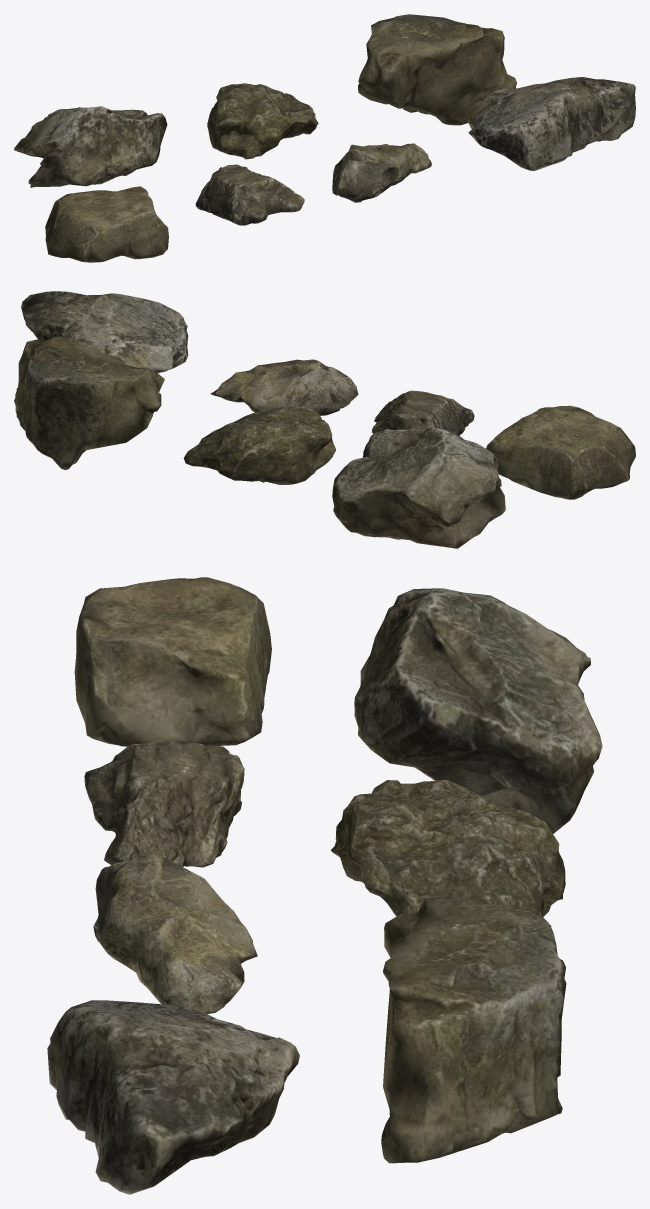
File: rocks_mossy_small_set.glb
3 views of the same model, one above another, from view 1: azimuth 30°, elevation 25°; view 2: azimuth 150°, elevation 25°; view 3: azimuth 270°, elevation 25° (orthographic). The views are drawn at different scales.
Visible parts, largest first — view 1: rock_moss_set_02_rock13, rock_moss_set_02_rock10, rock_moss_set_02_rock11, rock_moss_set_02_rock07, rock_moss_set_02_rock12, rock_moss_set_02_rock08, rock_moss_set_02_rock09; view 2: rock_moss_set_02_rock11, rock_moss_set_02_rock13, rock_moss_set_02_rock07, rock_moss_set_02_rock10, rock_moss_set_02_rock12, rock_moss_set_02_rock09, rock_moss_set_02_rock08; view 3: rock_moss_set_02_rock13, rock_moss_set_02_rock11, rock_moss_set_02_rock10, rock_moss_set_02_rock07, rock_moss_set_02_rock12, rock_moss_set_02_rock09, rock_moss_set_02_rock08.
Part boxes in pixels (left/top/right/bottom): rock_moss_set_02_rock13: left=358, top=14, right=516, bottom=125; rock_moss_set_02_rock10: left=468, top=77, right=635, bottom=170; rock_moss_set_02_rock11: left=14, top=106, right=167, bottom=187; rock_moss_set_02_rock07: left=45, top=186, right=168, bottom=262; rock_moss_set_02_rock12: left=207, top=83, right=318, bottom=159; rock_moss_set_02_rock08: left=195, top=164, right=304, bottom=225; rock_moss_set_02_rock09: left=332, top=143, right=431, bottom=202; rock_moss_set_02_rock11: left=332, top=427, right=505, bottom=548; rock_moss_set_02_rock13: left=14, top=336, right=164, bottom=470; rock_moss_set_02_rock07: left=486, top=405, right=635, bottom=499; rock_moss_set_02_rock10: left=21, top=291, right=188, bottom=373; rock_moss_set_02_rock12: left=183, top=406, right=335, bottom=484; rock_moss_set_02_rock09: left=210, top=359, right=358, bottom=415; rock_moss_set_02_rock08: left=372, top=390, right=474, bottom=435; rock_moss_set_02_rock13: left=381, top=895, right=566, bottom=1163; rock_moss_set_02_rock11: left=354, top=588, right=602, bottom=833; rock_moss_set_02_rock10: left=47, top=1000, right=299, bottom=1194; rock_moss_set_02_rock07: left=74, top=577, right=271, bottom=746; rock_moss_set_02_rock12: left=331, top=780, right=565, bottom=926; rock_moss_set_02_rock09: left=93, top=851, right=257, bottom=1013; rock_moss_set_02_rock08: left=84, top=741, right=244, bottom=867.
Size of the model in its own units: 8.28 by 1.37 by 3.41.
1 material, 1 textured.
